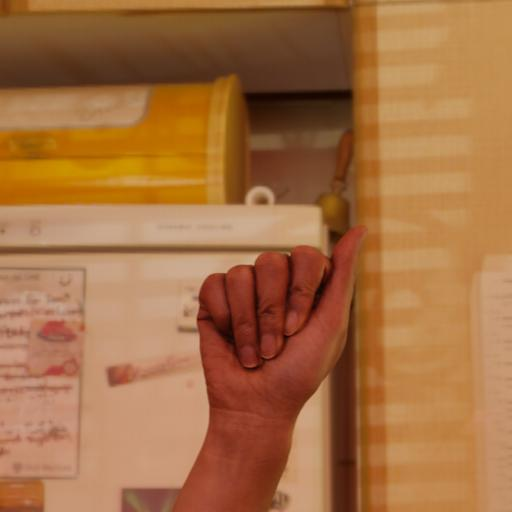A: (186, 215, 374, 437)
